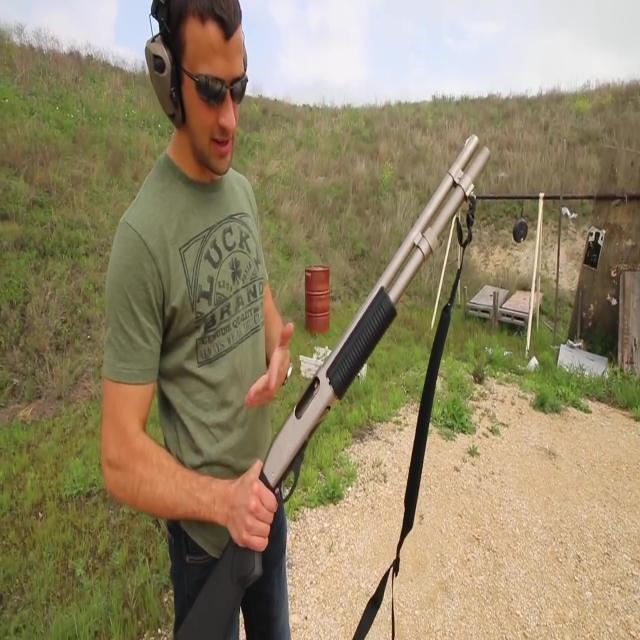Weapon: (175, 134, 503, 640)
